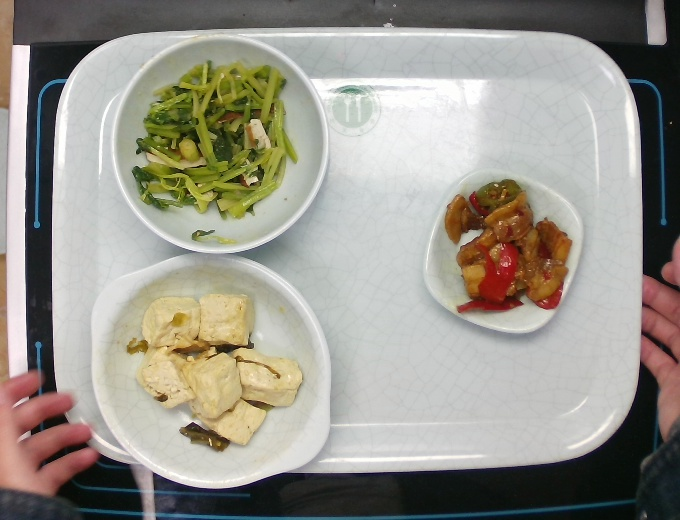JYsf-Fan_Wan: (107, 31, 337, 260)
JYsf-Shuang_Er_Wan: (88, 250, 341, 493)
JYsf-Si_Fang_Die: (413, 165, 587, 340)
